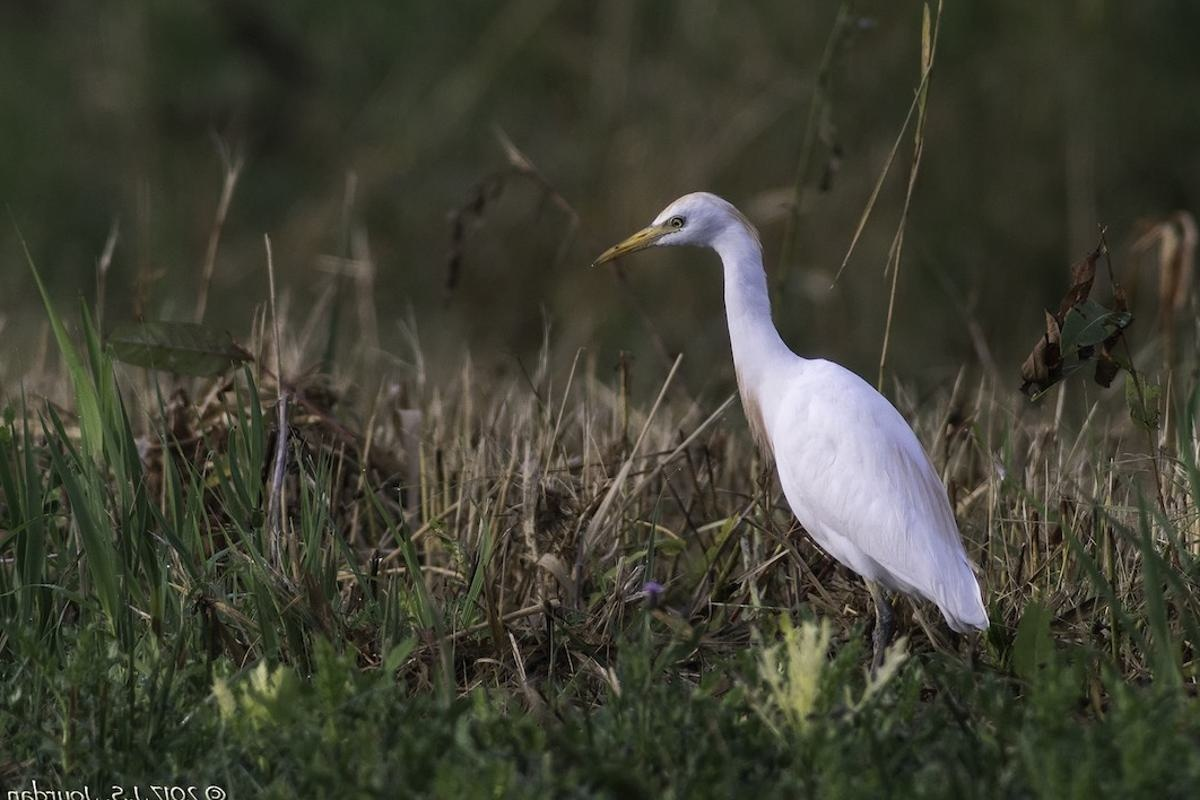egret: (586, 182, 1052, 675)
